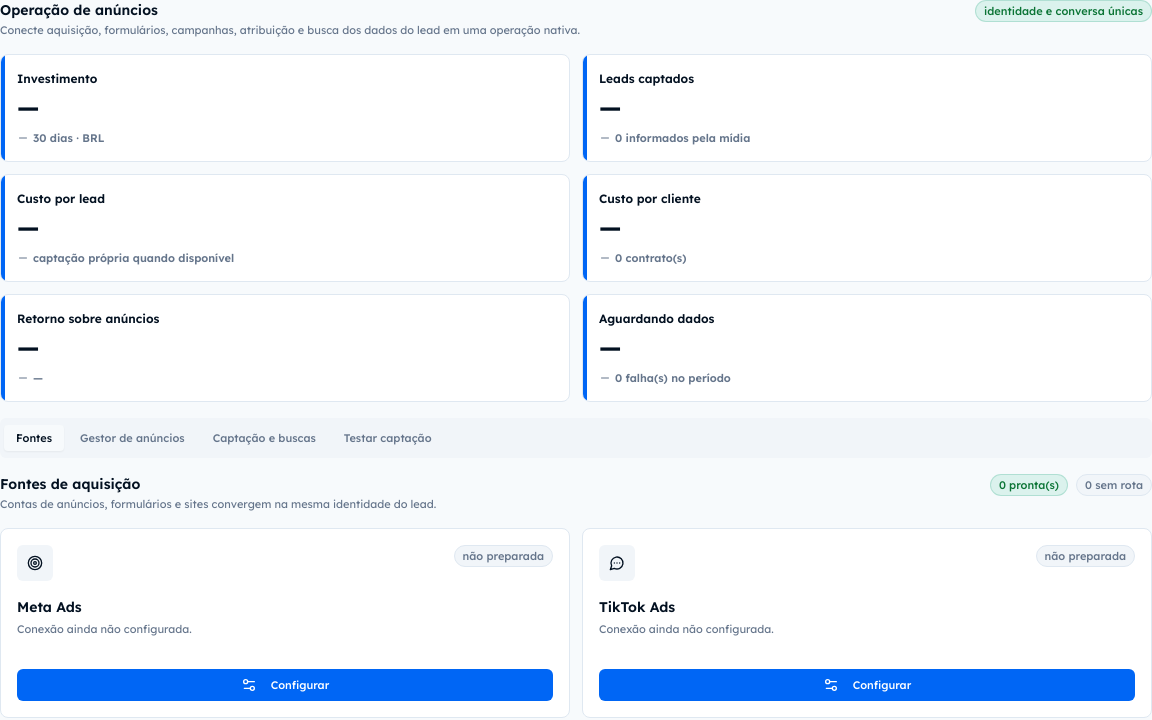
Test: AcquisitionIntegrationsPanel › sends a manual spend entry with the manual origin and the same ingest contract
Press the mouse on the tab "Gestor de anúncios" at (132, 438), box left=68, top=425, right=197, bottom=451
(page scrolled)
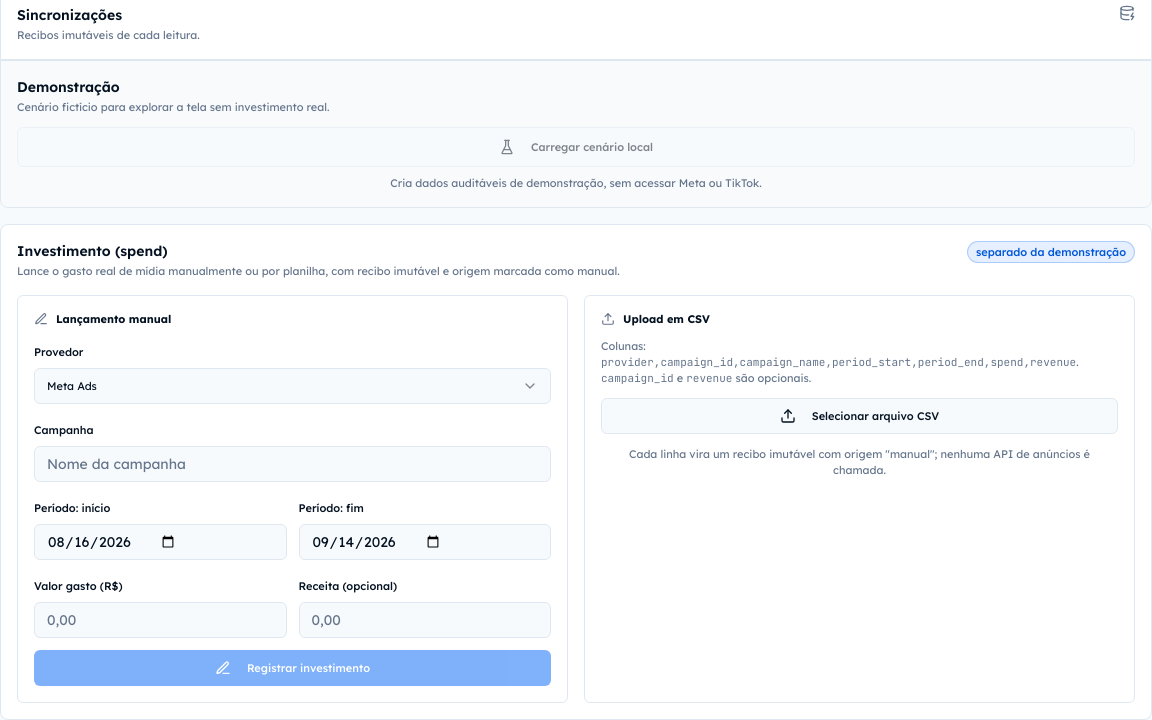
Type "Campanha manual julho" into the field with placeholder "Nome da campanha" at (292, 464), box left=34, top=446, right=551, bottom=482
(page scrolled)
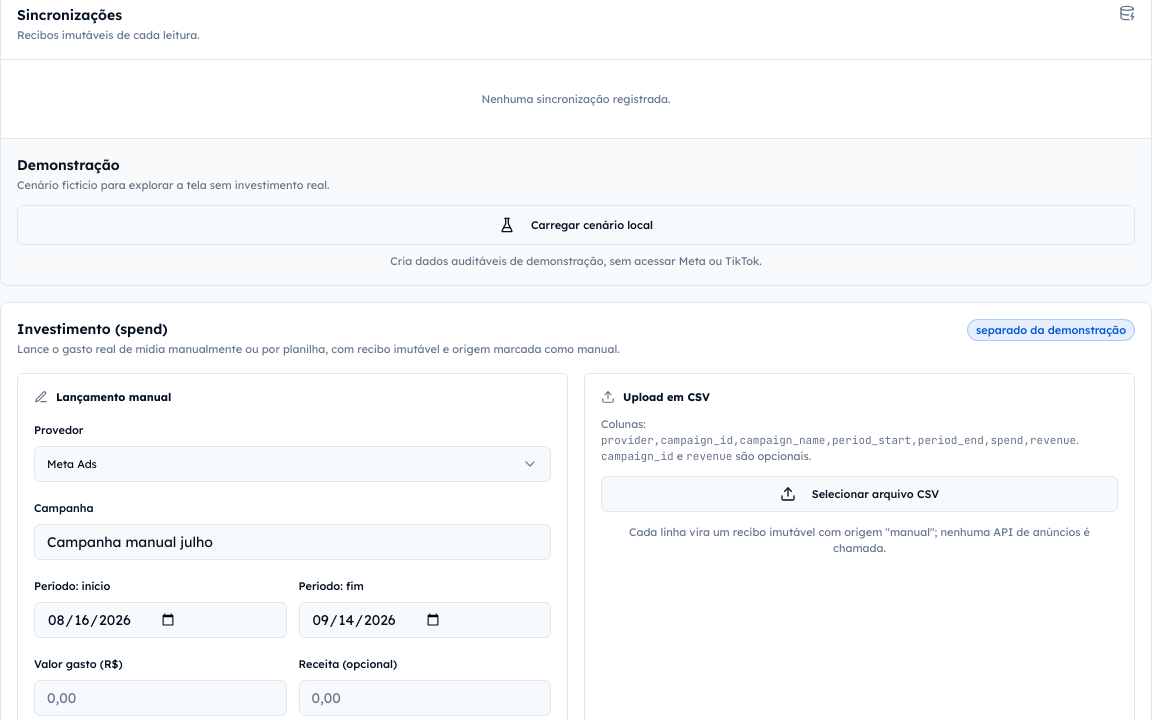
Type "980.50" into the number field with placeholder "0,00" below "Valor gasto (R$)" at (160, 698), box left=34, top=680, right=286, bottom=716
(page scrolled)
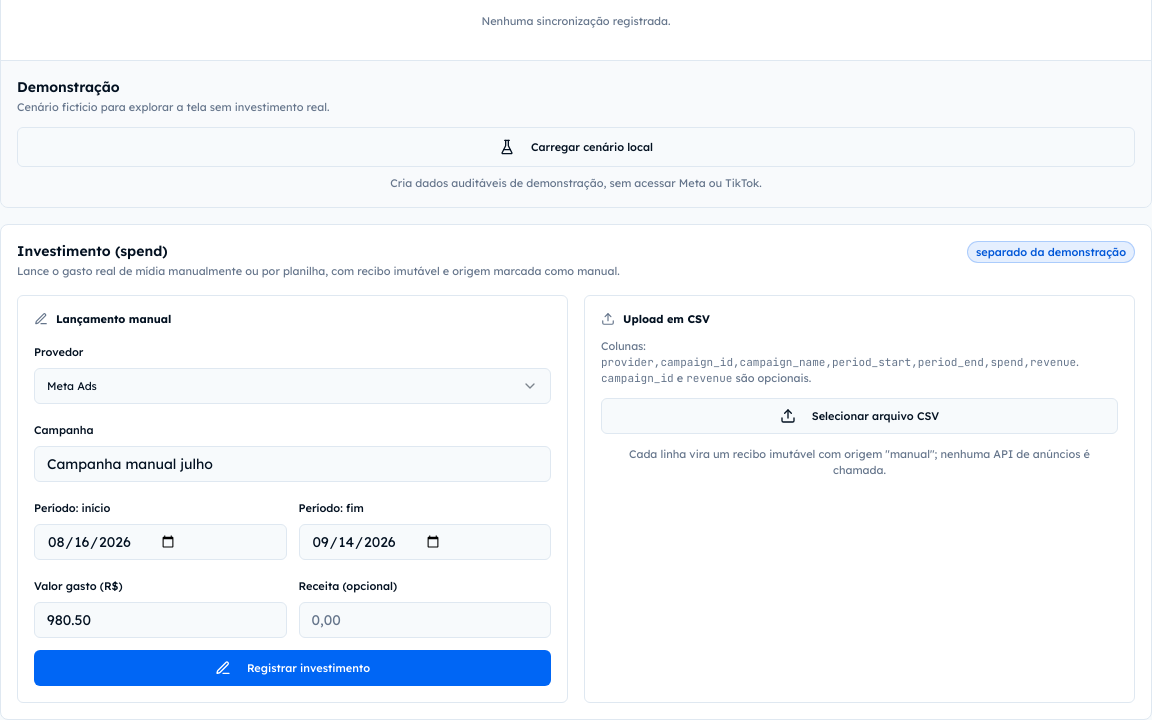
Click the button "Registrar investimento" at (292, 668), box left=34, top=650, right=551, bottom=686
(page scrolled)
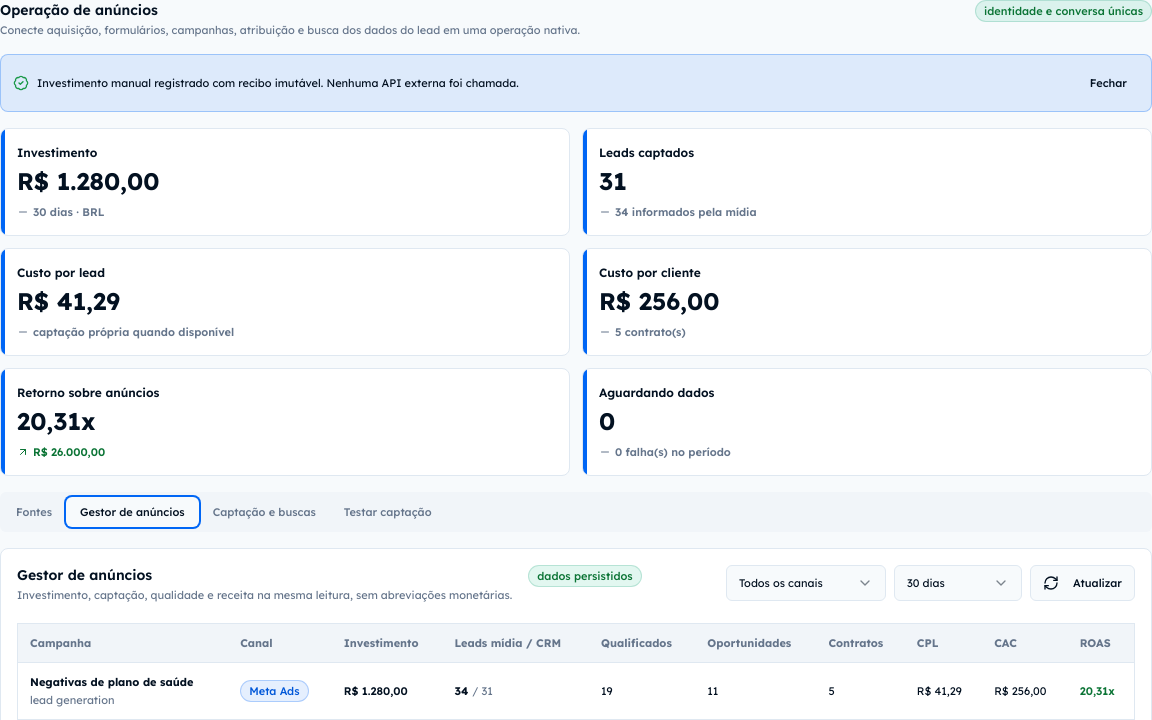
Now the text "Investimento manual registrado" is shown, box left=37, top=76, right=519, bottom=90
